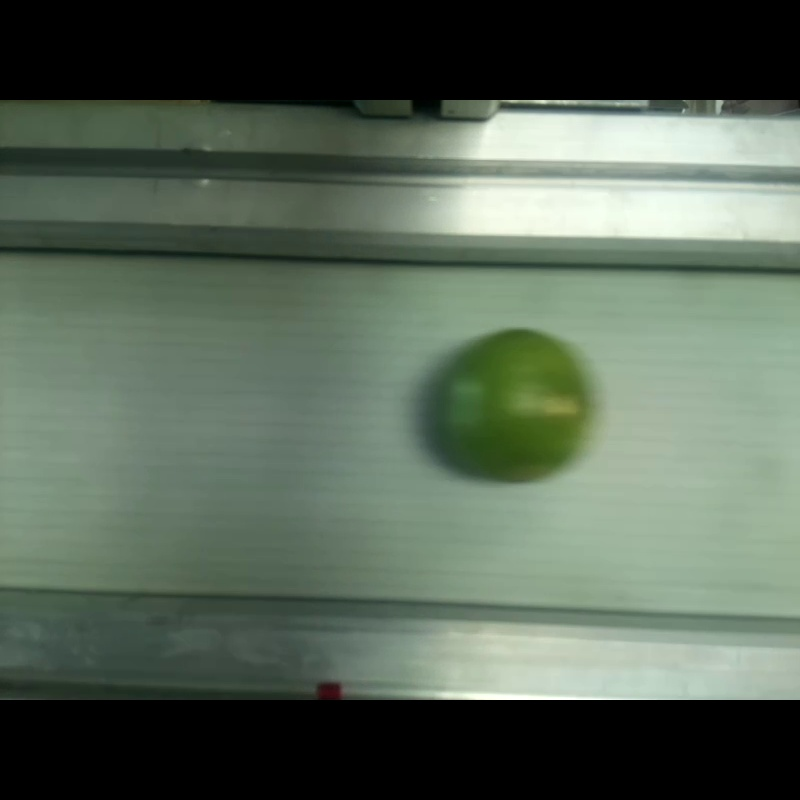lime: (440, 330, 591, 486)
